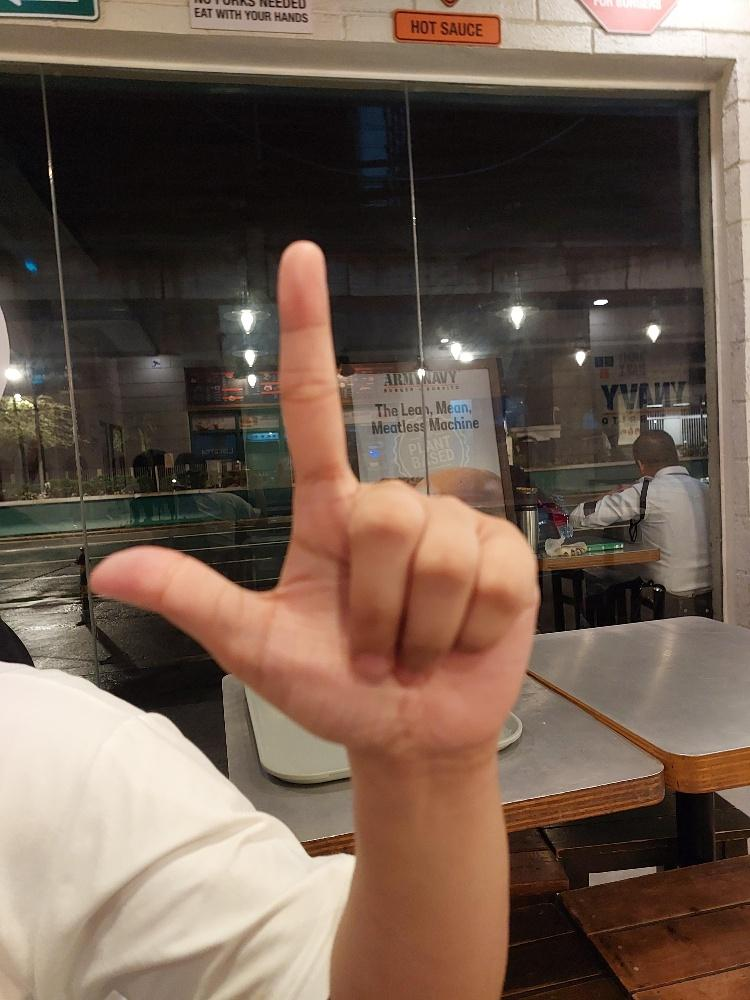l: (84, 235, 542, 756)
